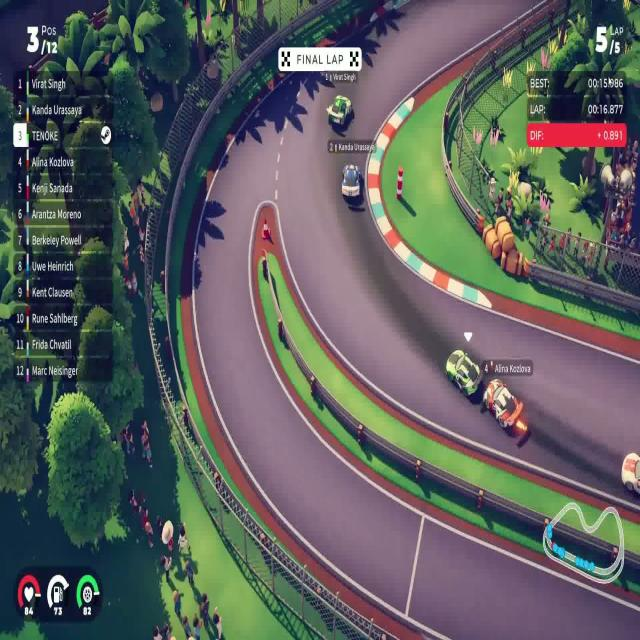car: (482, 377, 526, 435), (444, 347, 482, 399), (341, 162, 364, 206), (325, 94, 352, 126)
